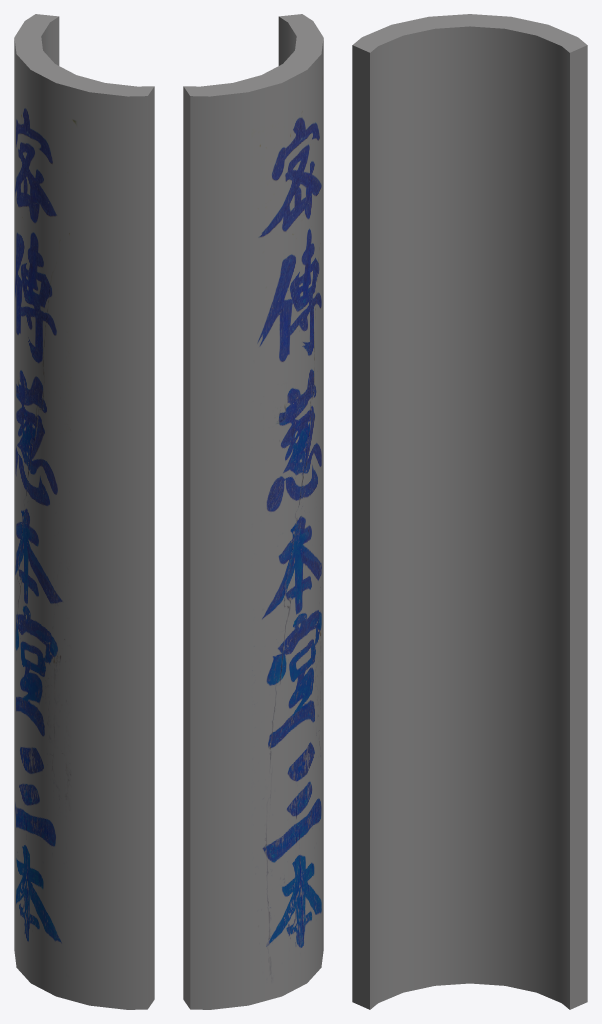
The model's file is SM_YMG_Pillar_Words01a.fbx.
The picture shows the model from 3 angles, left to right: view 1: azimuth 30°, elevation 25°; view 2: azimuth 150°, elevation 25°; view 3: azimuth 270°, elevation 25°; orthographic projection. The views are drawn at different scales.
Visible parts, largest first — view 1: SM_YMG_Pillar_Words01a; view 2: SM_YMG_Pillar_Words01a; view 3: SM_YMG_Pillar_Words01a.
Part boxes in pixels (bbox=[...]): SM_YMG_Pillar_Words01a: bbox=[14, 14, 154, 1009]; SM_YMG_Pillar_Words01a: bbox=[183, 14, 323, 1009]; SM_YMG_Pillar_Words01a: bbox=[352, 14, 587, 1009].
Size of the model in its own units: 15.19 by 38.77 by 174.
1 material, 1 textured.
